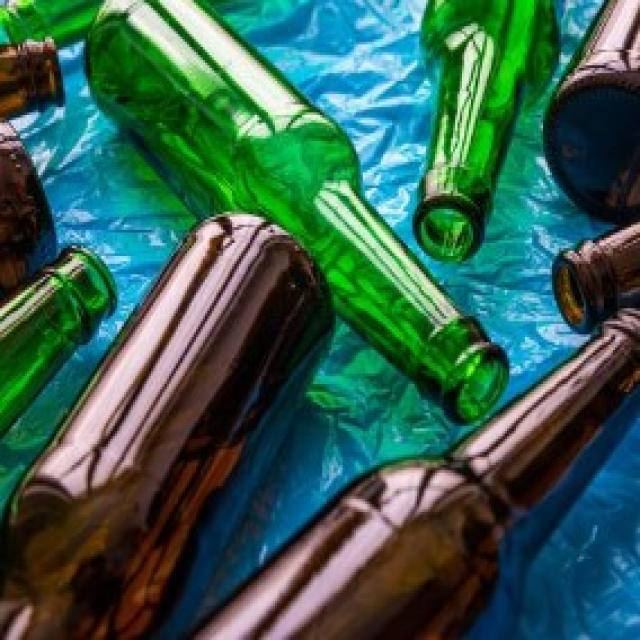electronic: (84, 0, 511, 423), (1, 211, 340, 640), (416, 0, 563, 262)
